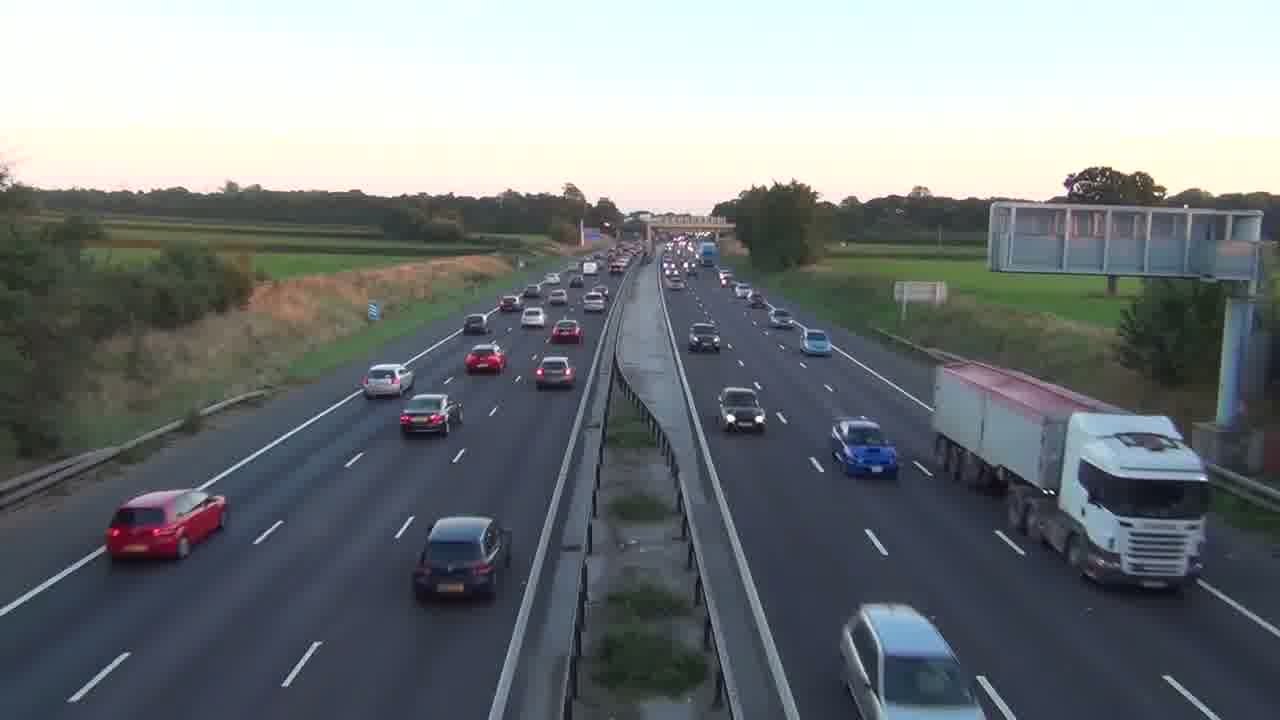car: (839, 601, 986, 719), (104, 488, 228, 562), (412, 514, 513, 601), (829, 417, 900, 479), (399, 392, 454, 437), (717, 385, 767, 433), (363, 363, 411, 399), (533, 355, 576, 389), (464, 341, 507, 374), (549, 319, 583, 344), (520, 306, 546, 328)
truck: (929, 358, 1210, 593), (104, 488, 228, 562)
